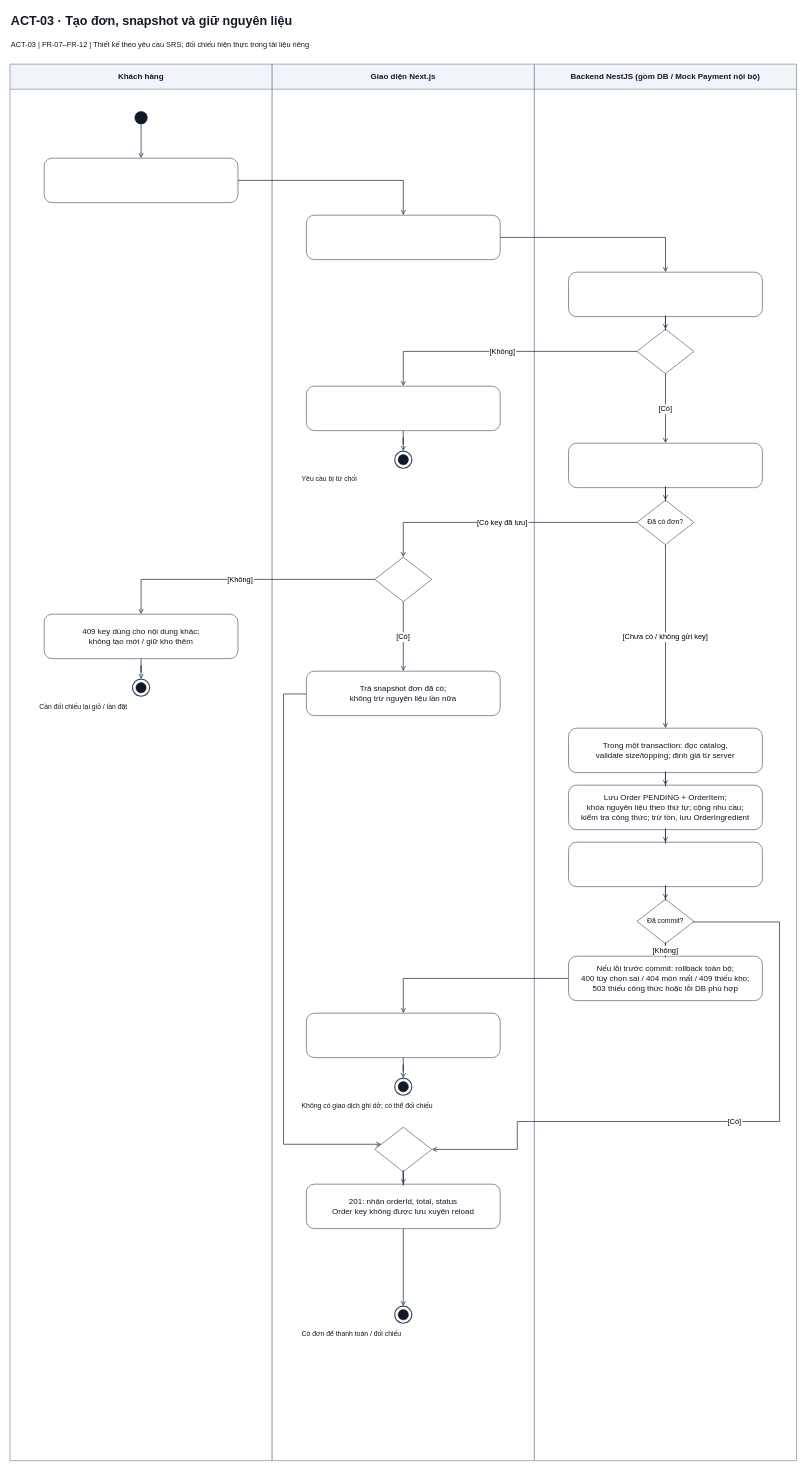
Some shapes in this 807 by 1471 pixel diagram are drawn without their labels. The box of each missing label's shape, as (x1, y1, x2, y2) in pixels:
401 phiên lỗi / 400 input sai; giữ giỏ, không tạo đơn: (306, 386, 500, 431)
Giữ order key theo giỏ trong phiên; gửi items IDs và quantity, không gửi giá: (306, 215, 500, 260)
Hiện lỗi; giữ giỏ cho khách chỉnh Mất phản hồi: đối chiếu/replay cùng order key: (306, 1013, 500, 1058)
Hợp lệ?: (636, 329, 694, 374)
Kiểm tra JWT, body và key nếu có: (568, 272, 762, 317)
Nội dung khớp?: (374, 557, 432, 602)
Tìm đơn của user theo order key: (568, 443, 762, 488)
Xác nhận giỏ / tạo đơn: (44, 158, 238, 203)
Yêu cầu commit transaction Chỉ thành công khi DB xác nhận: (568, 842, 762, 887)
